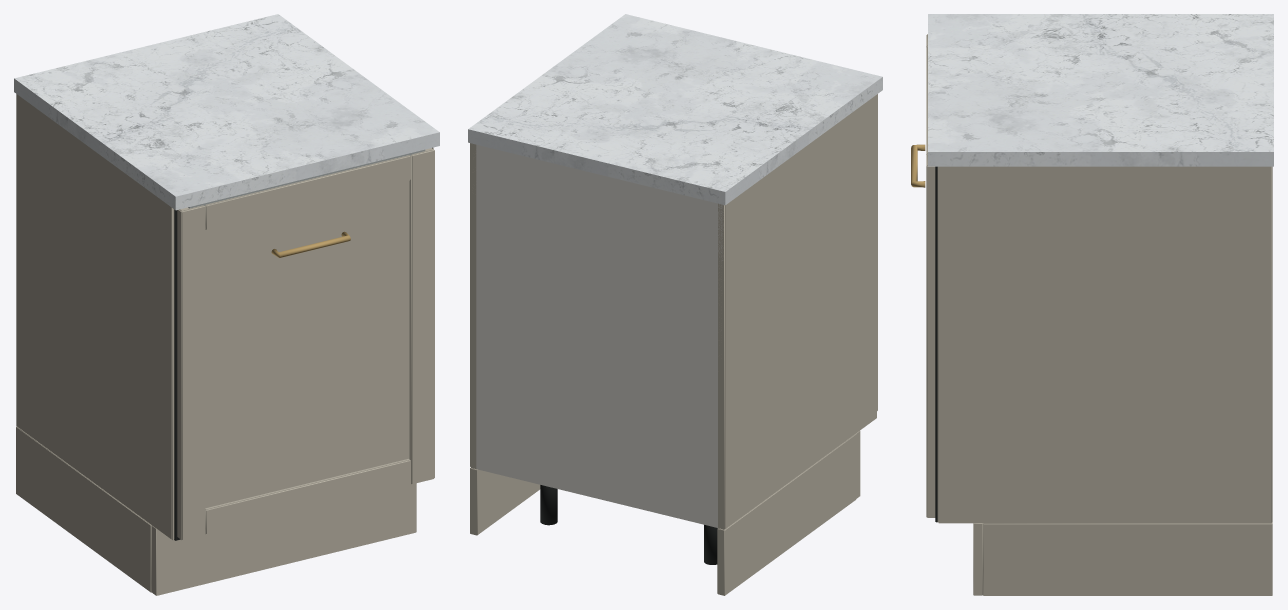
File: scandinavian.dishwasher.gltf
The picture shows the model from 3 angles, left to right: view 1: azimuth 30°, elevation 25°; view 2: azimuth 150°, elevation 25°; view 3: azimuth 270°, elevation 25°; orthographic projection. The views are drawn at different scales.
Parts seen in each view (by area): view 1: scandinavian.dishwasher.back; view 2: scandinavian.dishwasher.back; view 3: scandinavian.dishwasher.back.
Boxes of the visible parts, left/top/right/bottom form: scandinavian.dishwasher.back: left=14, top=14, right=439, bottom=595; scandinavian.dishwasher.back: left=468, top=14, right=882, bottom=595; scandinavian.dishwasher.back: left=911, top=14, right=1273, bottom=595.
Bounding box in the file's own units: 0.604 × 0.91 × 0.671.
Materials: 6 (1 with a texture image).
